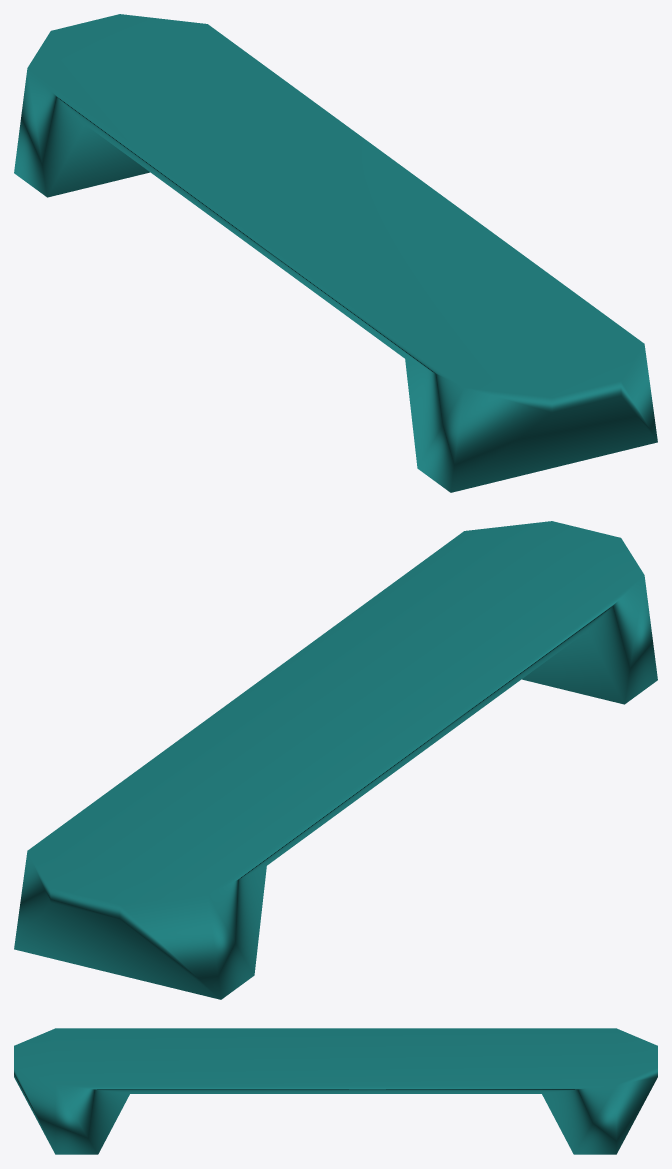
The model's file is longboard_collider.fbx.
The picture shows the model from 3 angles, top to bottom: view 1: azimuth 30°, elevation 25°; view 2: azimuth 150°, elevation 25°; view 3: azimuth 270°, elevation 25°; orthographic projection. The views are drawn at different scales.
Visible parts, largest first — view 1: longboard_collider; view 2: longboard_collider; view 3: longboard_collider.
Boxes of the visible parts, bbox=[...] form: longboard_collider: bbox=[14, 14, 657, 492]; longboard_collider: bbox=[14, 521, 657, 999]; longboard_collider: bbox=[14, 1028, 657, 1154].
Bounding box in the file's own units: 24.35 × 11.44 × 102.
